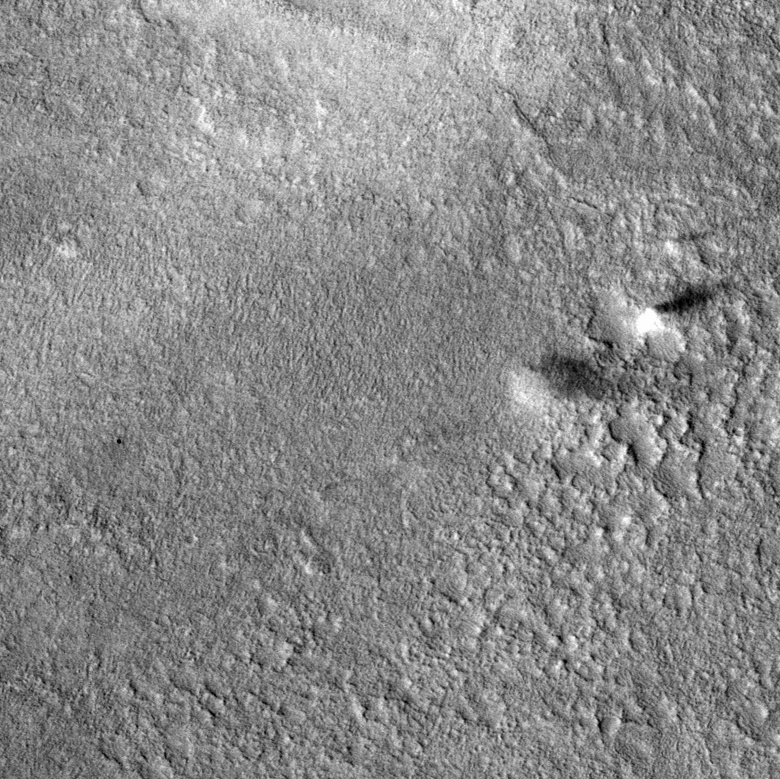dust_devil: (506, 346, 696, 414), (634, 279, 735, 336), (662, 225, 720, 258)
